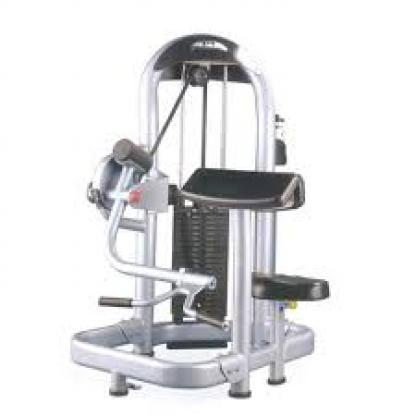arm curl machine: (74, 33, 330, 399)
